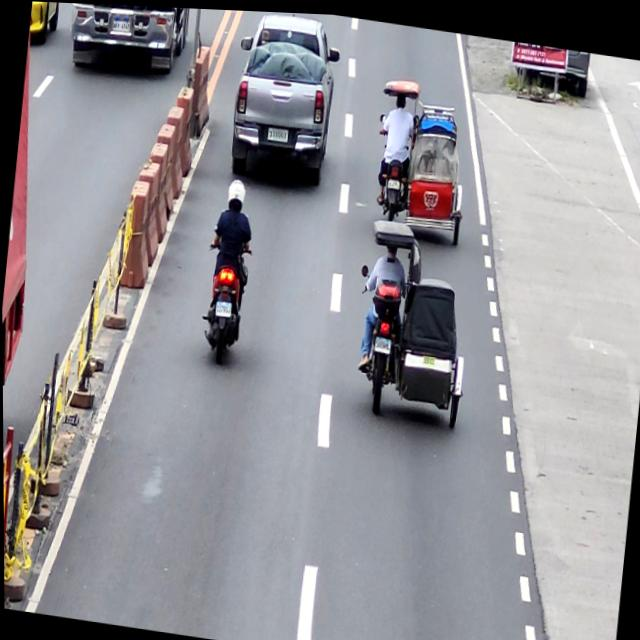Car: (225, 8, 344, 185)
License-Plate: (213, 297, 232, 318), (266, 124, 288, 141), (373, 333, 391, 351), (386, 174, 401, 186)
Motorcycle: (197, 219, 254, 365)
Tricycle: (345, 211, 477, 425), (367, 73, 475, 244)
